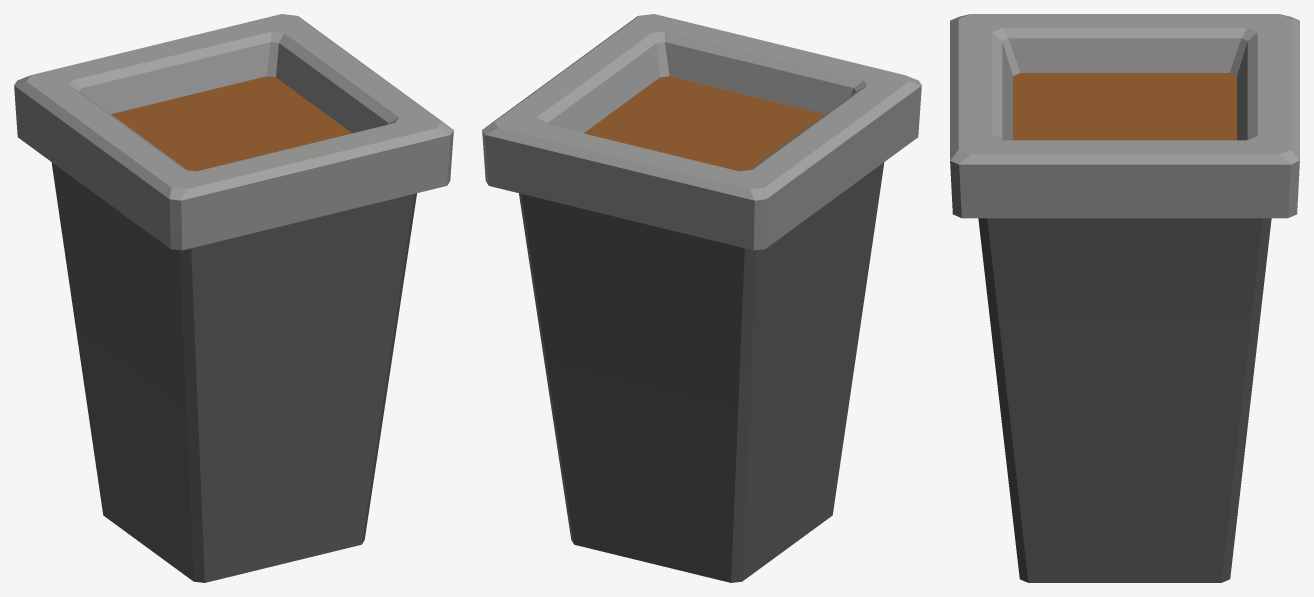
Rendered from PlantPot_2_B.glb.
3 renders of one model, left to right at view 1: azimuth 30°, elevation 25°; view 2: azimuth 150°, elevation 25°; view 3: azimuth 270°, elevation 25°, orthographic. The views are drawn at different scales.
Parts seen in each view (by area): view 1: PlantPot_2_B; view 2: PlantPot_2_B; view 3: PlantPot_2_B.
Boxes of the visible parts, x1=… form: PlantPot_2_B: x1=14, y1=14, x2=453, y2=582; PlantPot_2_B: x1=482, y1=14, x2=921, y2=582; PlantPot_2_B: x1=950, y1=14, x2=1299, y2=582.
Bounding box in the file's own units: 0.3624 × 0.5192 × 0.3624.
Materials: 1 (1 with a texture image).
